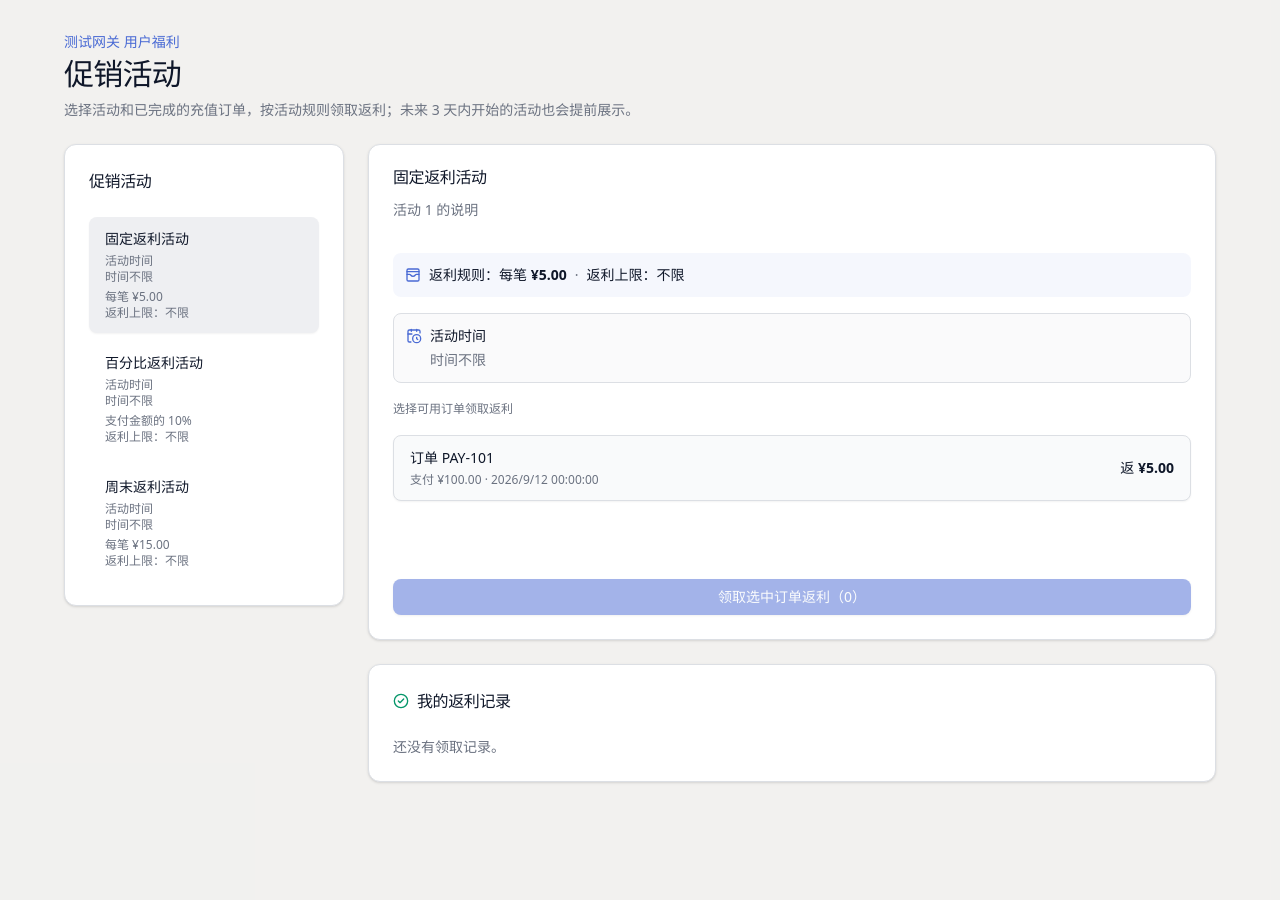
Test: 促销活动切换 › 失败时保留列表并禁用旧订单，支持重试恢复和按新活动领取
What coordinates should you click on to do the following:
click the button "百分比返利活动 活动时间 时间不限 支付金额的 10% 返利上限：不限"
I would click on:
 (204, 399)
Its box is [89, 341, 319, 457].
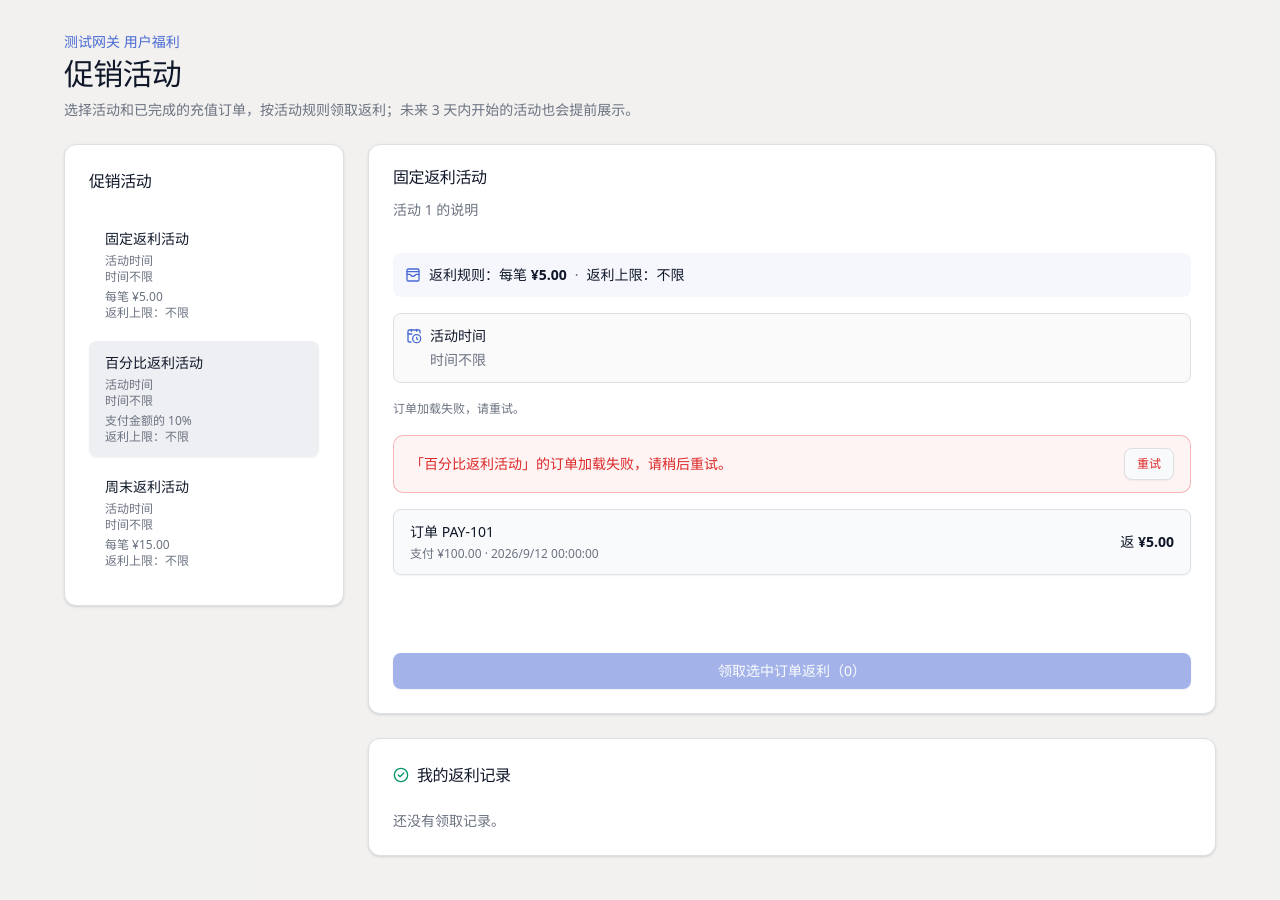
Check: the message "「百分比返利活动」的订单加载失败，请稍后重试。 重试" is shown, box [393, 435, 1191, 493]
Check: the button "订单 PAY-101 支付 ¥100.00 · 2026/9/12 00:00:00 返 ¥5.00" is disabled, box [393, 509, 1191, 575]
What coordinates should you click on to do the following:
click the button "重试"
I would click on:
 (1149, 464)
Its box is [1124, 448, 1174, 480].
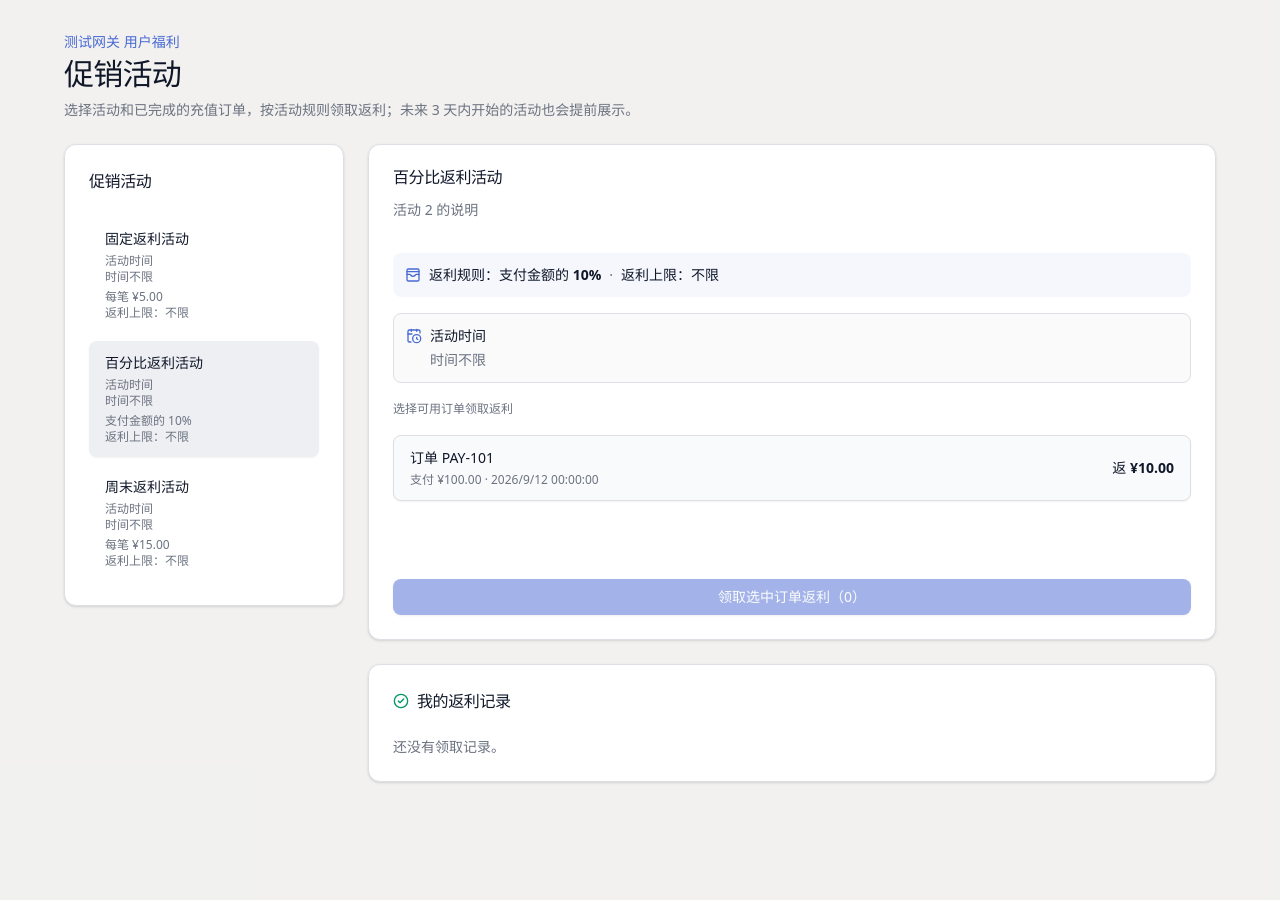
Check: the button "订单 PAY-101 支付 ¥100.00 · 2026/9/12 00:00:00 返 ¥10.00" is enabled
Check: the message "「百分比返利活动」的订单加载失败，请稍后重试。 重试" is gone
What coordinates should you click on to do the following:
click the button "订单 PAY-101 支付 ¥100.00 · 2026/9/12 00:00:00 返 ¥10.00"
I would click on:
 (426, 458)
Its box is [393, 435, 1191, 501].
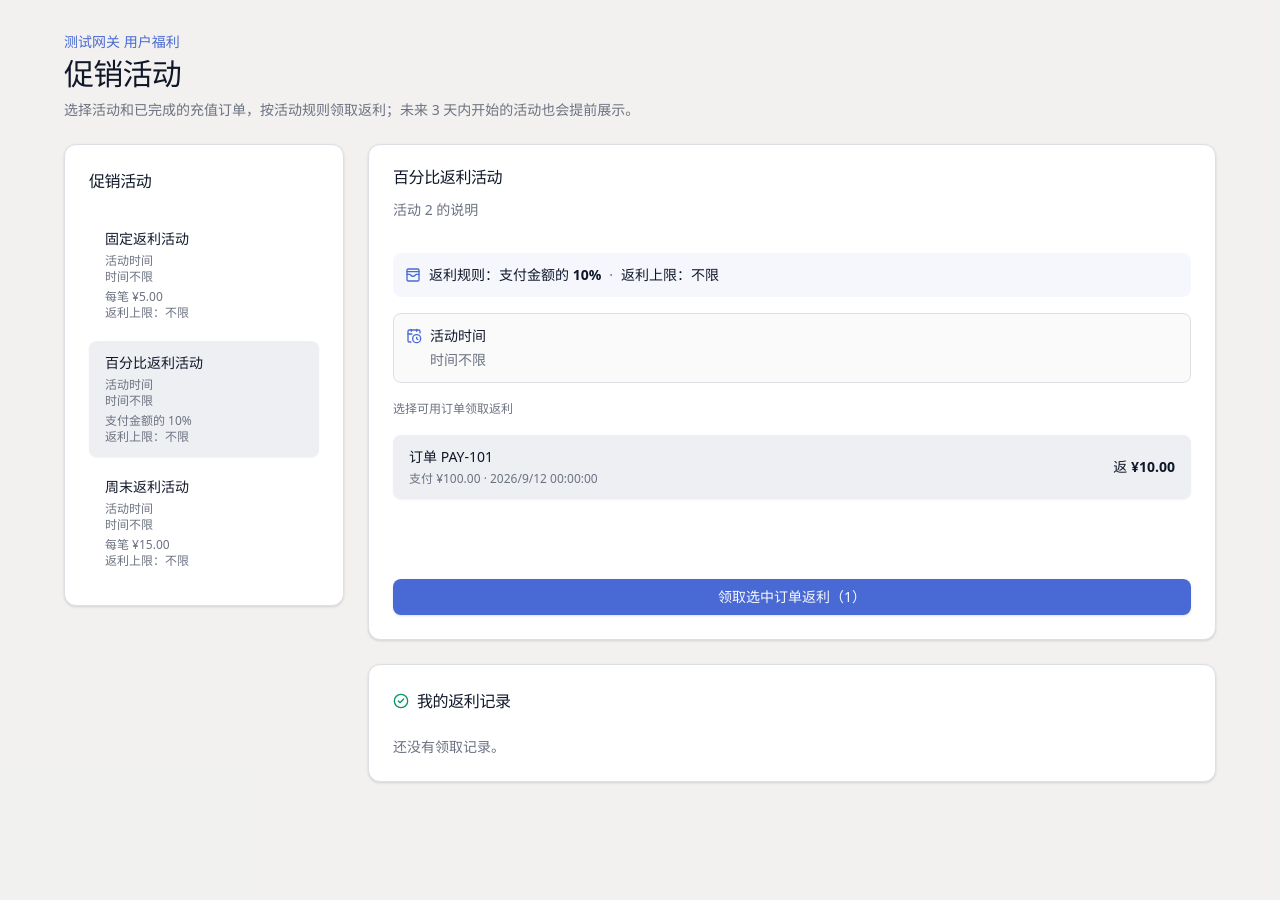
What coordinates should you click on to do the following:
click the button "领取选中订单返利（1）"
I would click on:
 (792, 597)
Its box is [393, 579, 1191, 615].
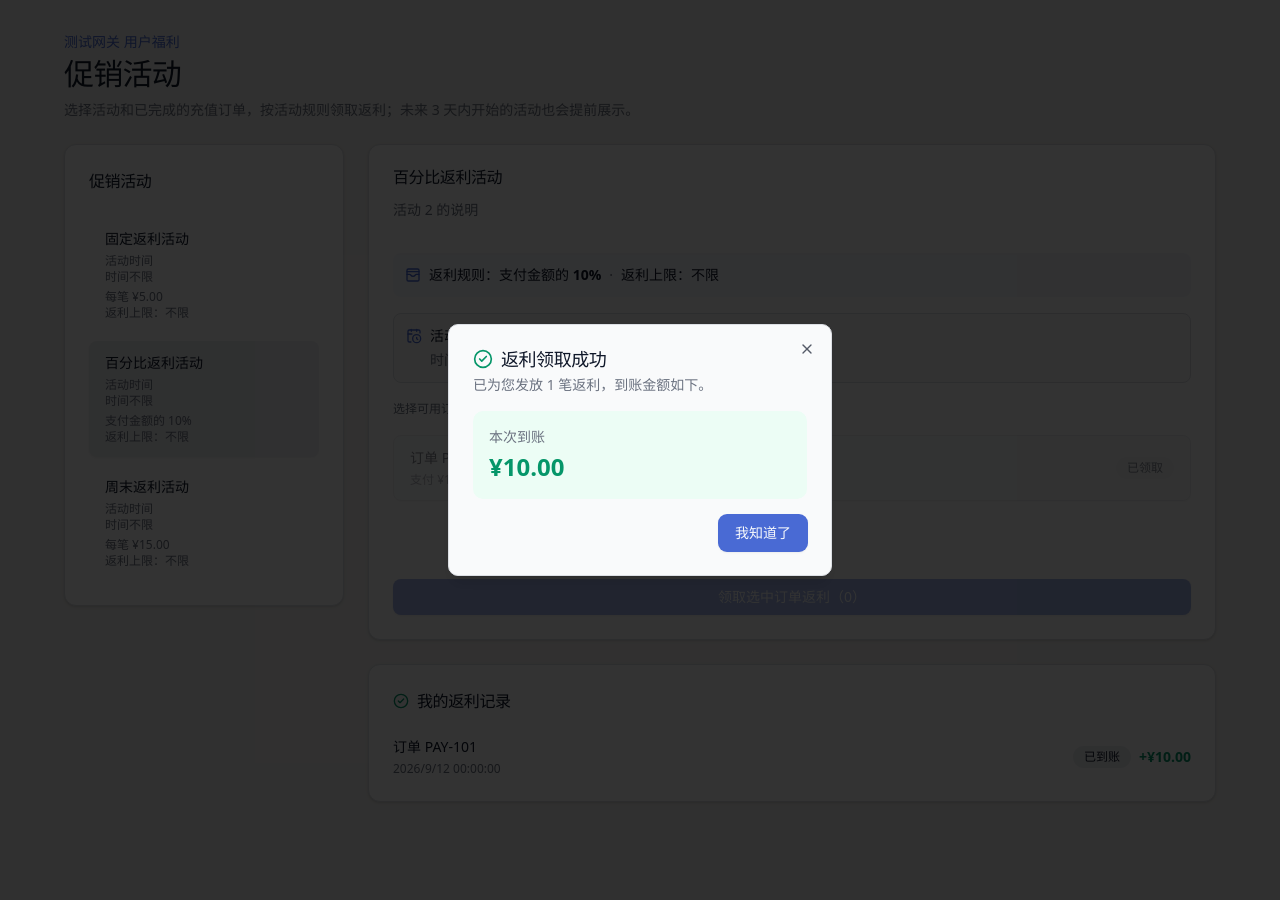
Check: the button "订单 PAY-101 支付 ¥100.00 · 2026/9/12 00:00:00 已领取" is shown, box [393, 435, 1191, 501]
Check: the button "订单 PAY-101 支付 ¥100.00 · 2026/9/12 00:00:00 已领取" is disabled, box [393, 435, 1191, 501]
